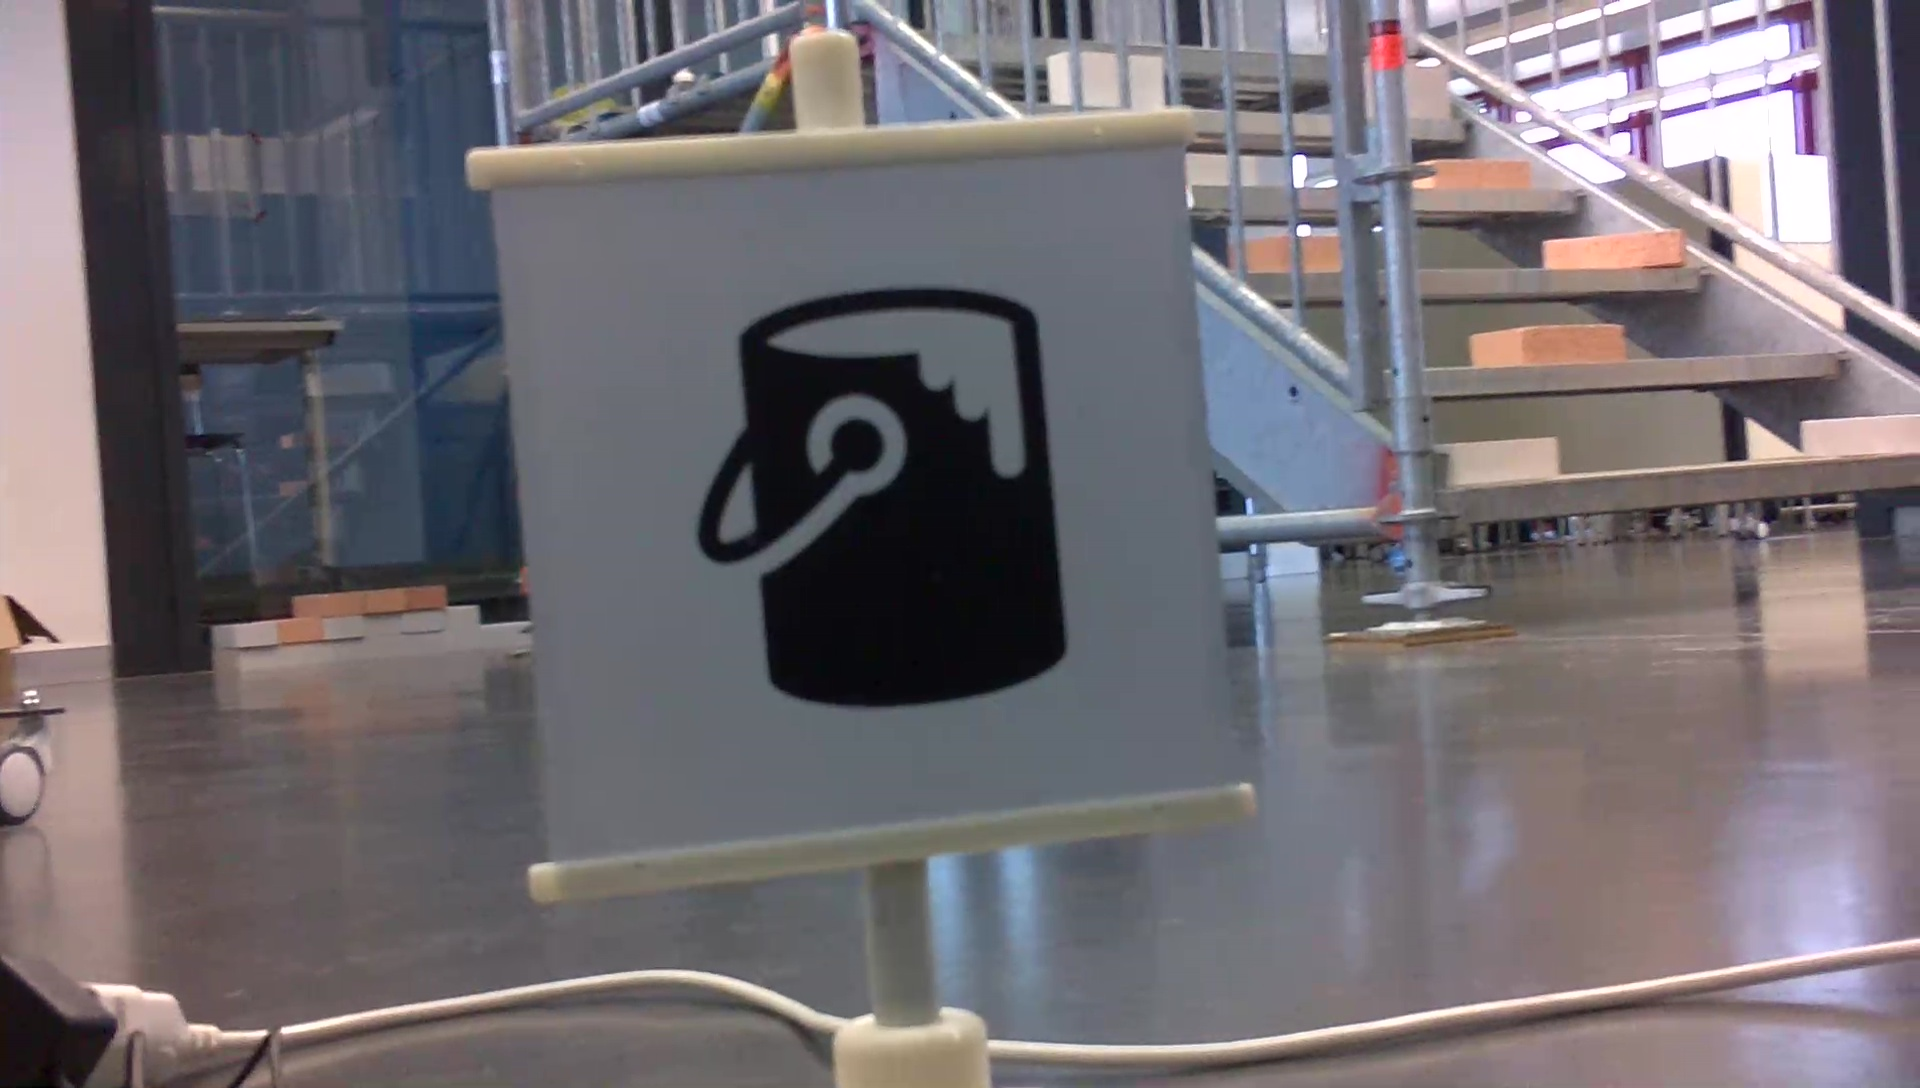brick: (1472, 324, 1622, 363), (1542, 228, 1683, 268), (1451, 437, 1555, 483), (1803, 415, 1920, 455), (1418, 162, 1532, 193), (1404, 66, 1447, 119)
bucket: (686, 278, 1077, 719)
edge: (1443, 455, 1917, 516), (1420, 352, 1861, 393)
